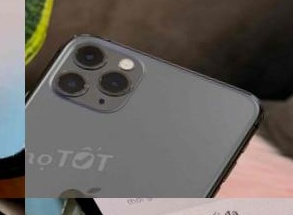scratch: (56, 35, 142, 115)
